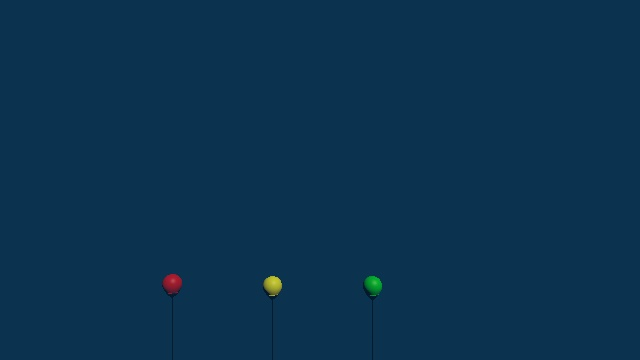buoy_green: (361, 270, 386, 302)
buoy_red: (161, 273, 182, 297)
